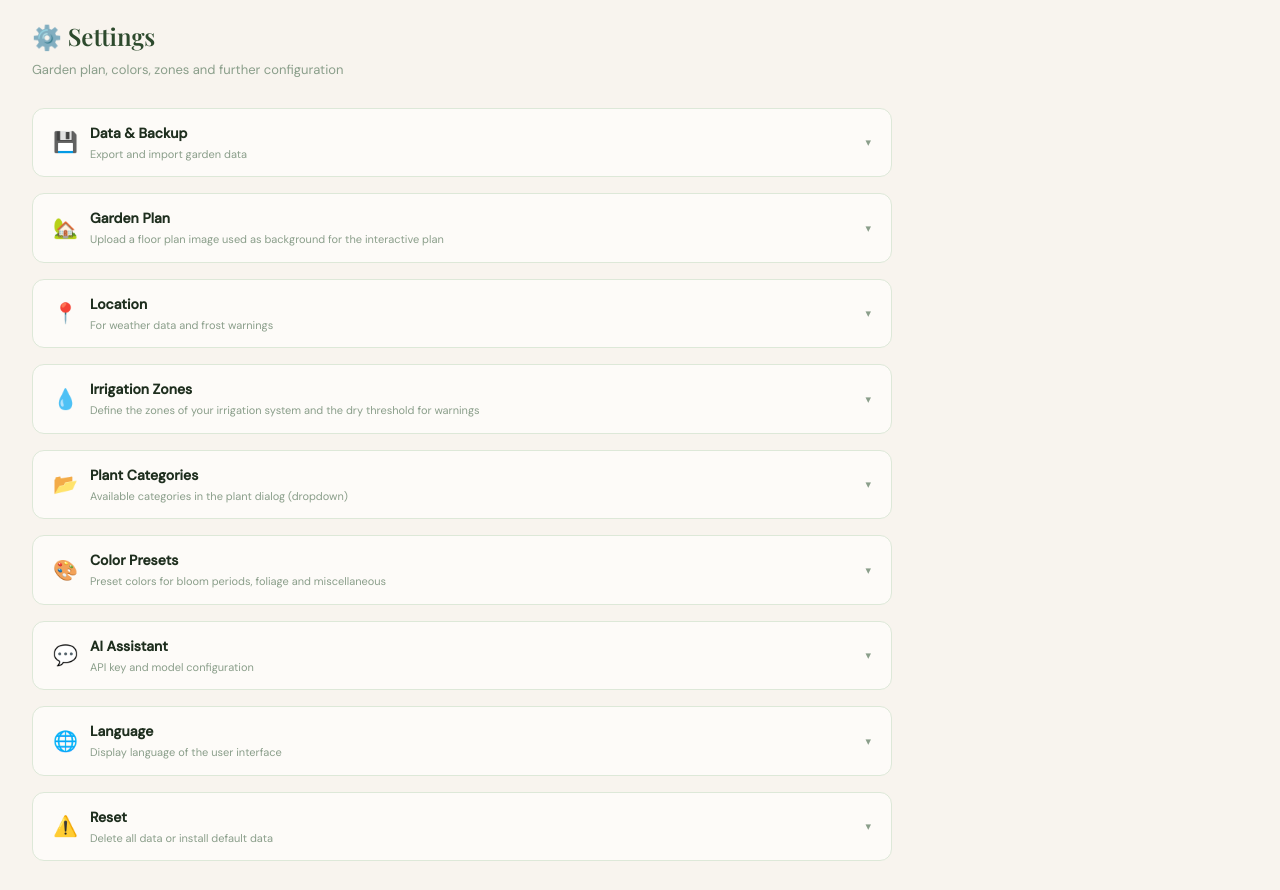
Scenario: Language switching via SettingsView › EN → DE: saves to DB and switches i18n to German
Click the button with test id "language-section-toggle" at (122, 731), box [53,722,871,759]
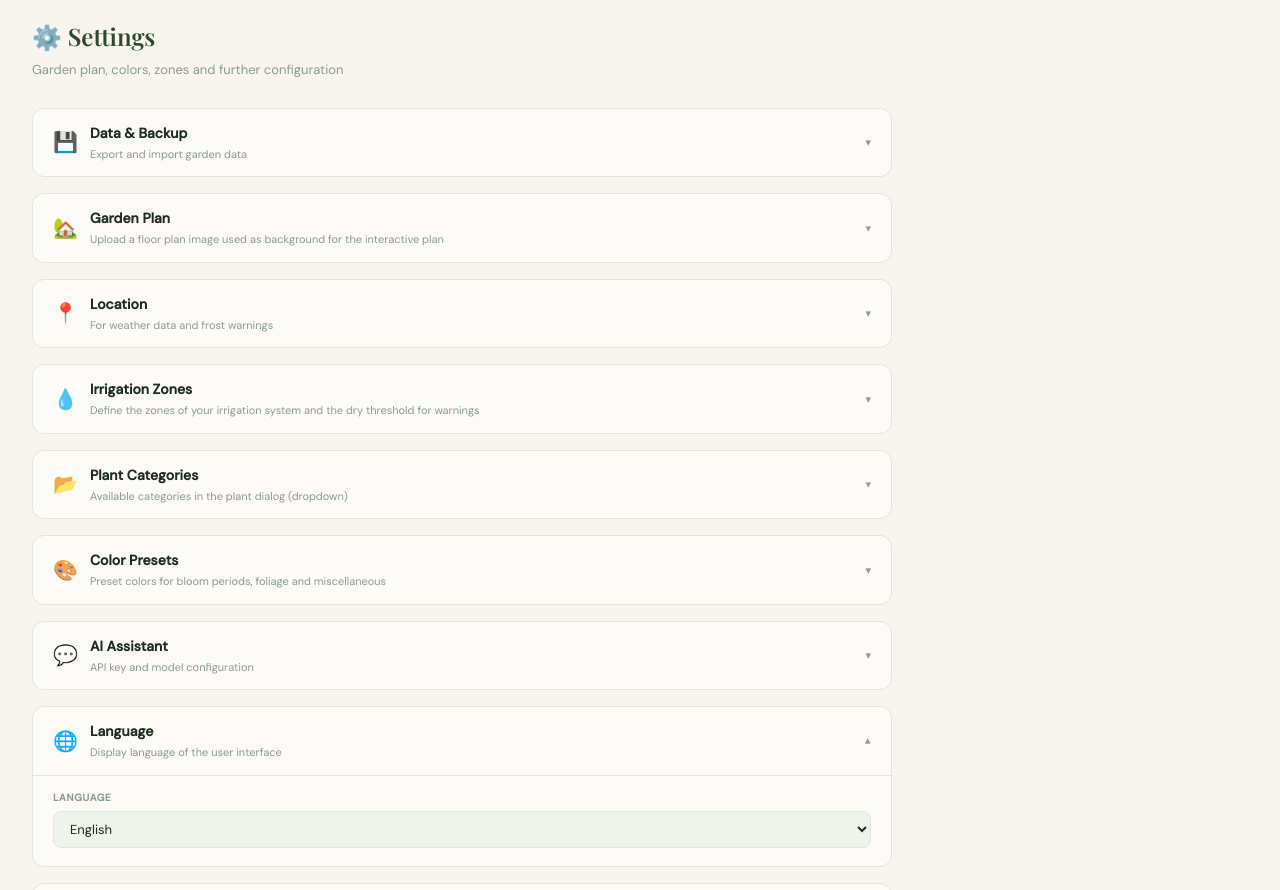
Now the dropdown shows "English"
Select "Deutsch" in the dropdown at (462, 829), box [53,810,871,848]
(page scrolled)
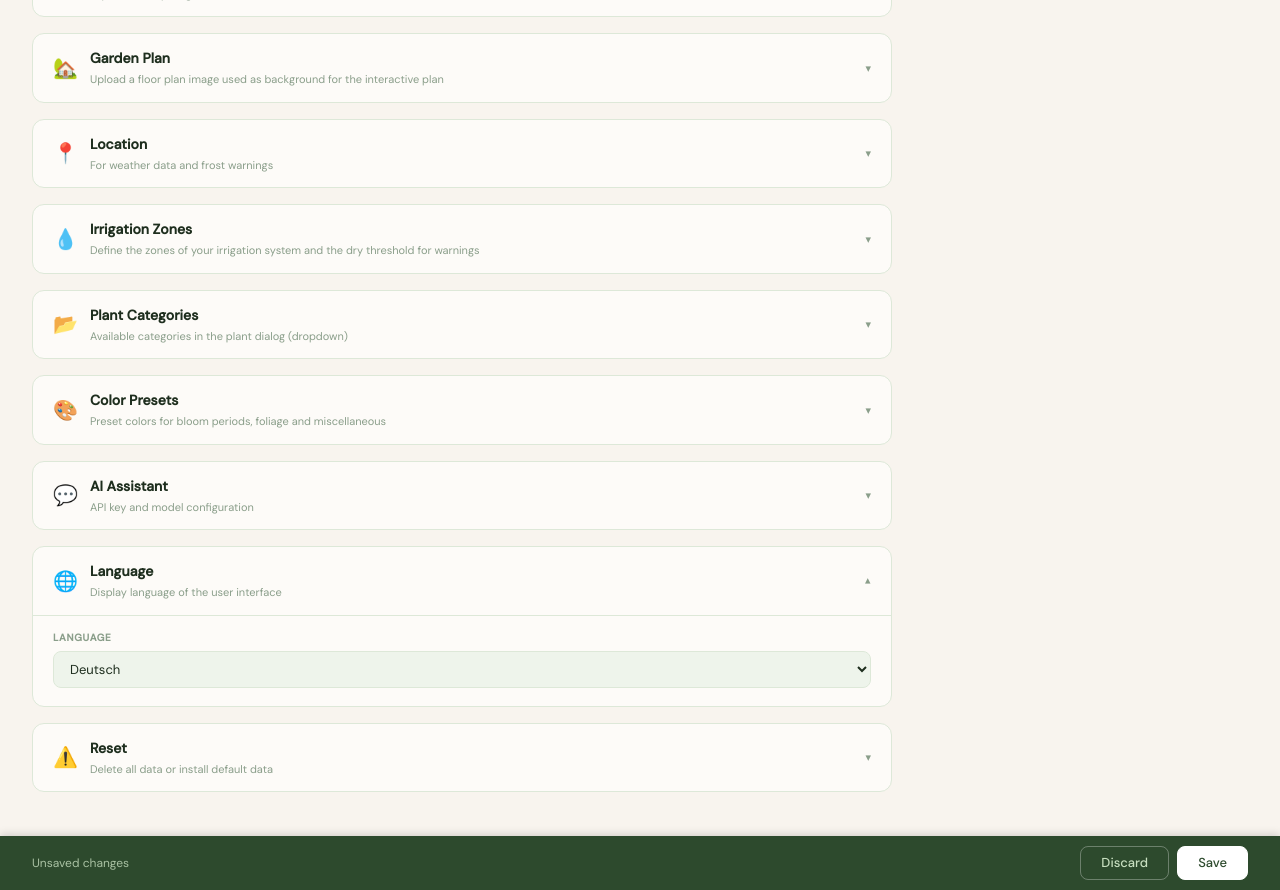
Now the button with test id "save-bar-save" is enabled
Click the button with test id "save-bar-save" at (1213, 863), box [1177,846,1248,880]
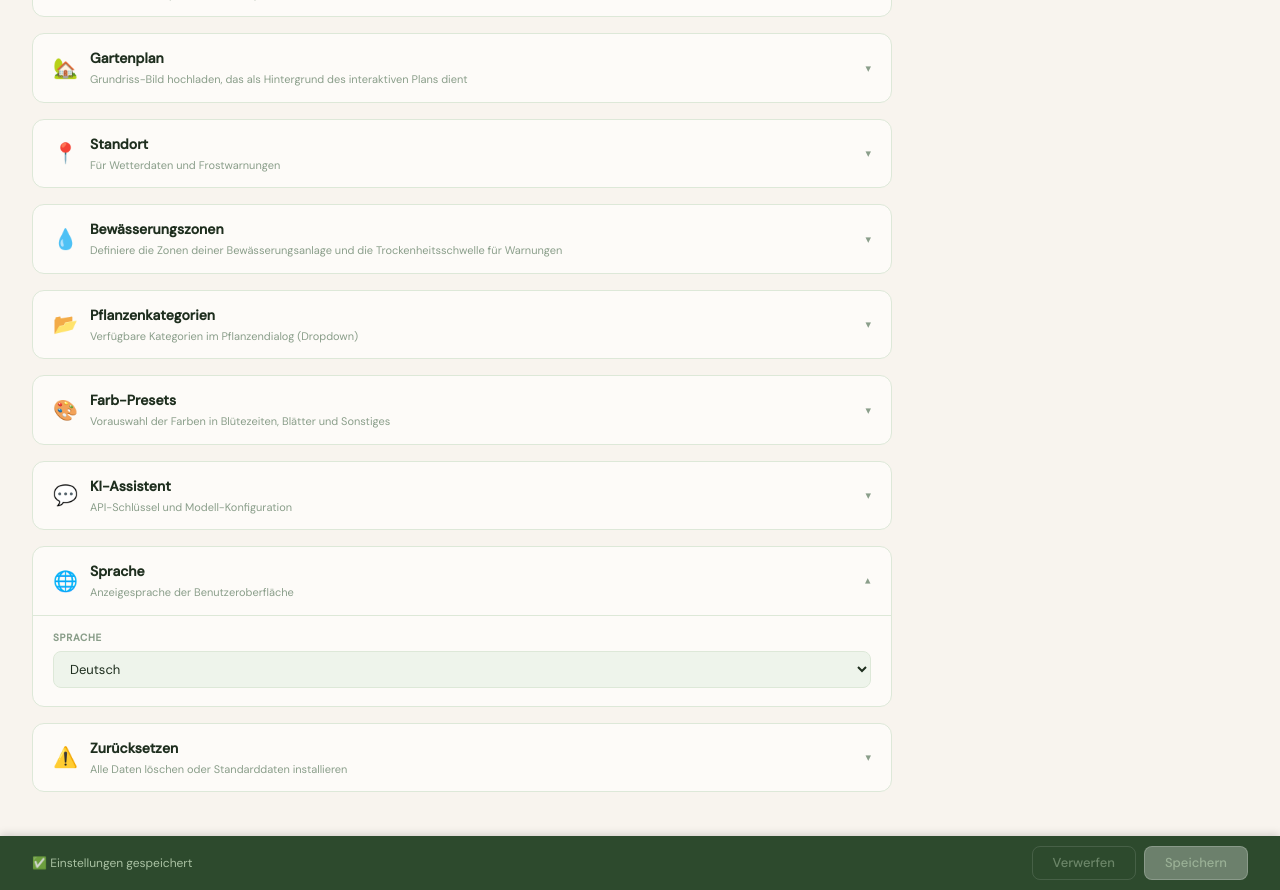
Now the button with test id "save-bar-save" is disabled, box [1144,846,1248,880]
